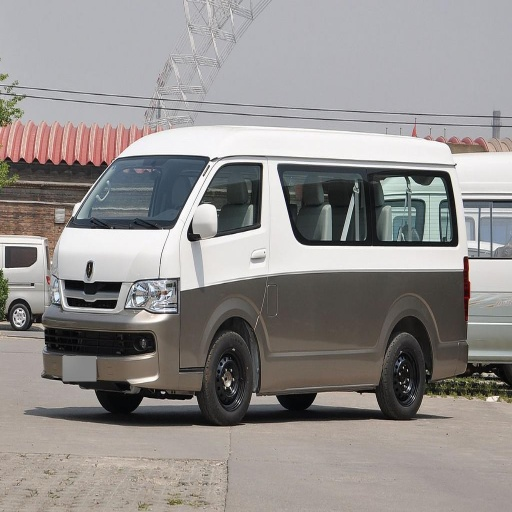front_bumper: (51, 277, 178, 390)
front_glass: (69, 158, 207, 229)
front_left_door: (188, 161, 266, 281)
trunk: (290, 249, 495, 377)
